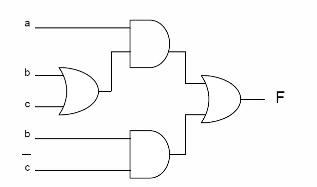and: (123, 16, 176, 72), (126, 126, 175, 183), (198, 70, 244, 127)
or: (51, 64, 105, 116)
